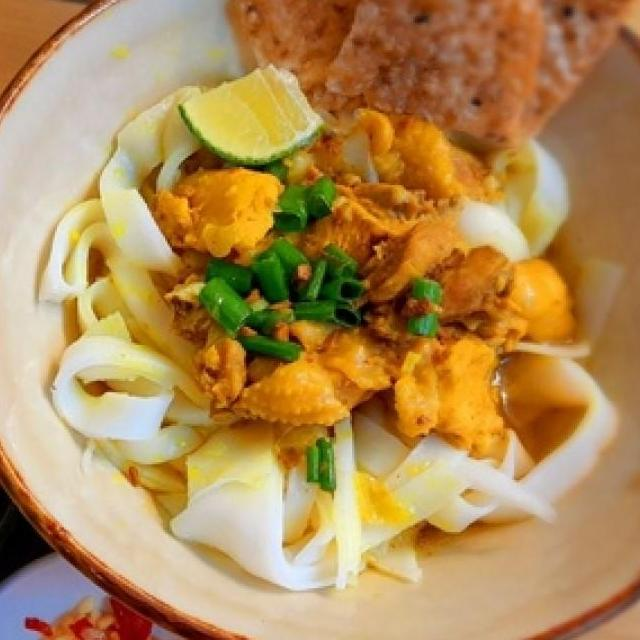banh da: (468, 315, 640, 539), (521, 225, 640, 390)
mi: (136, 45, 575, 254), (18, 166, 240, 549), (87, 438, 523, 608)
thit ga: (325, 270, 505, 460), (199, 197, 348, 408), (414, 281, 550, 499), (275, 396, 404, 565), (162, 379, 322, 506), (368, 150, 488, 290)
